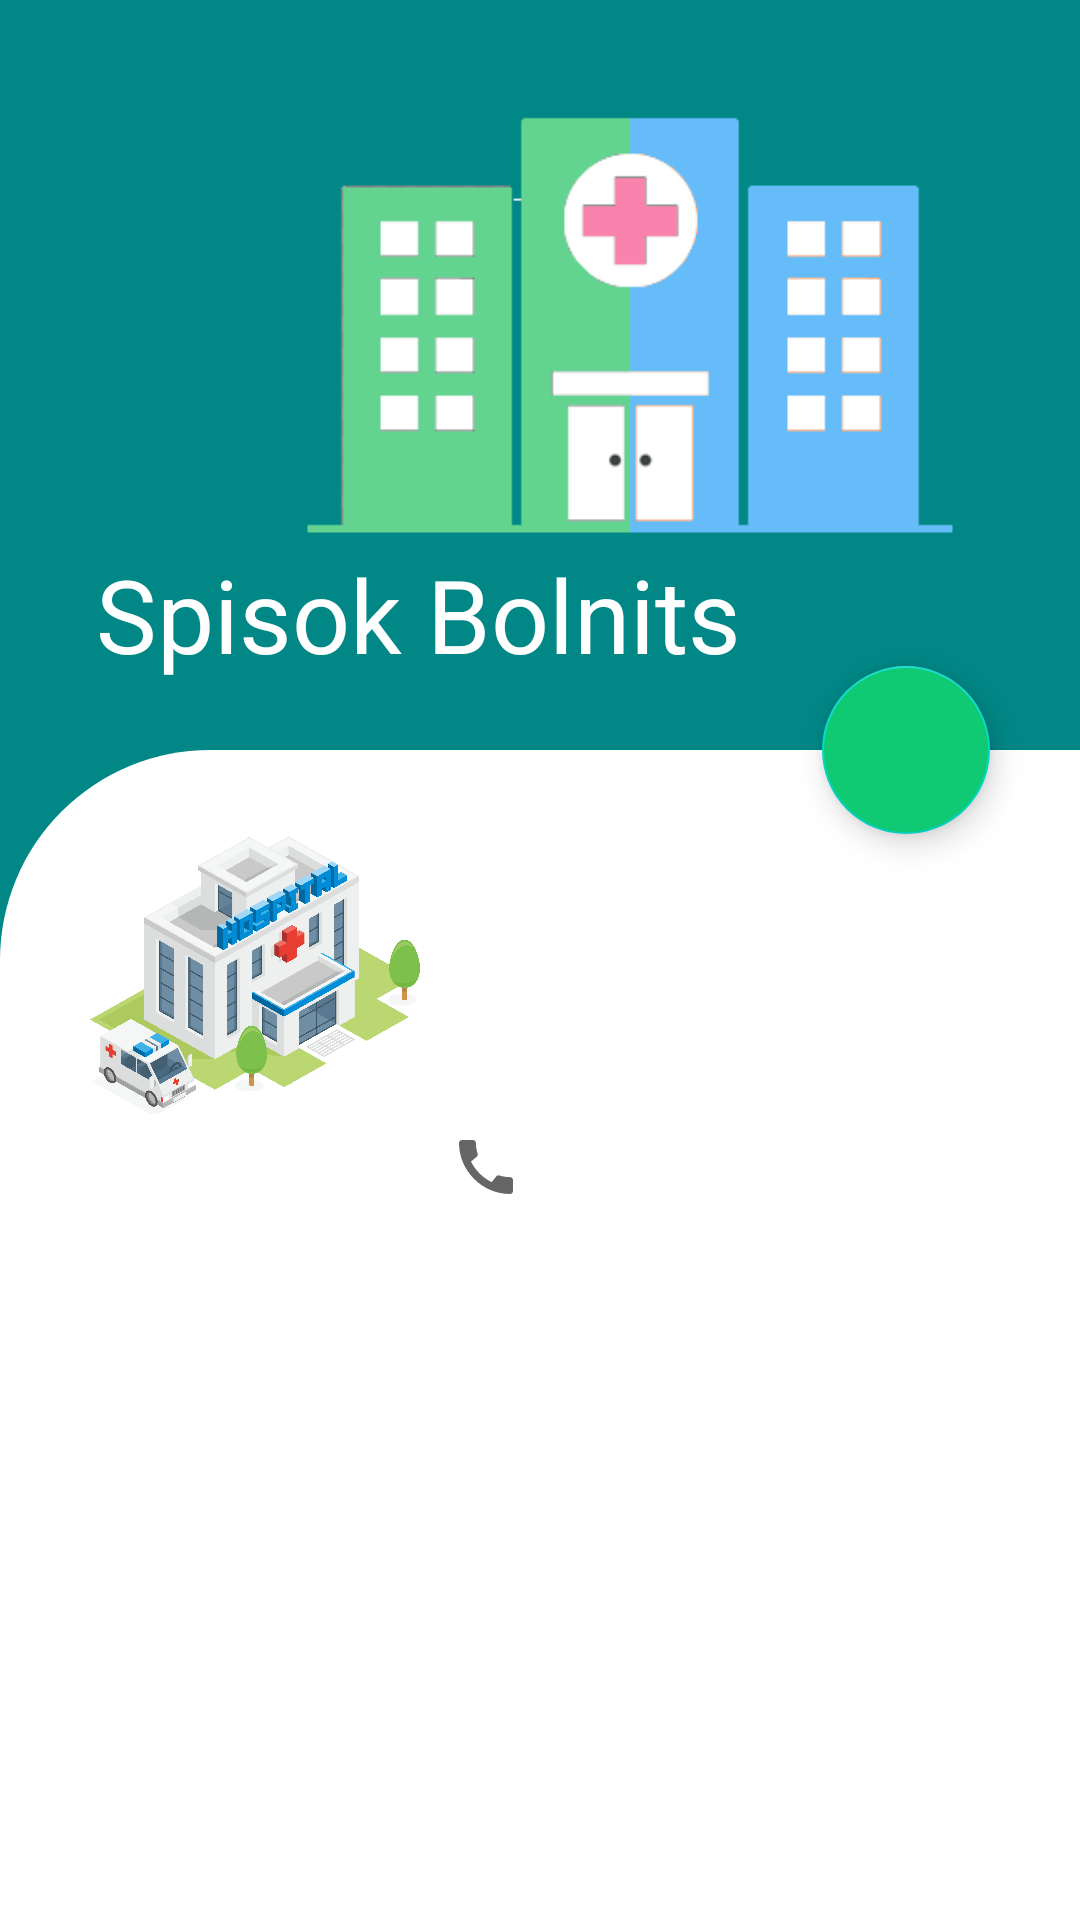

Named icons in this screenshot (1080w x 1920h) and their bounding boxes, Rect(x1, y1, x2, y2):
call: Rect(459, 1140, 513, 1194)
